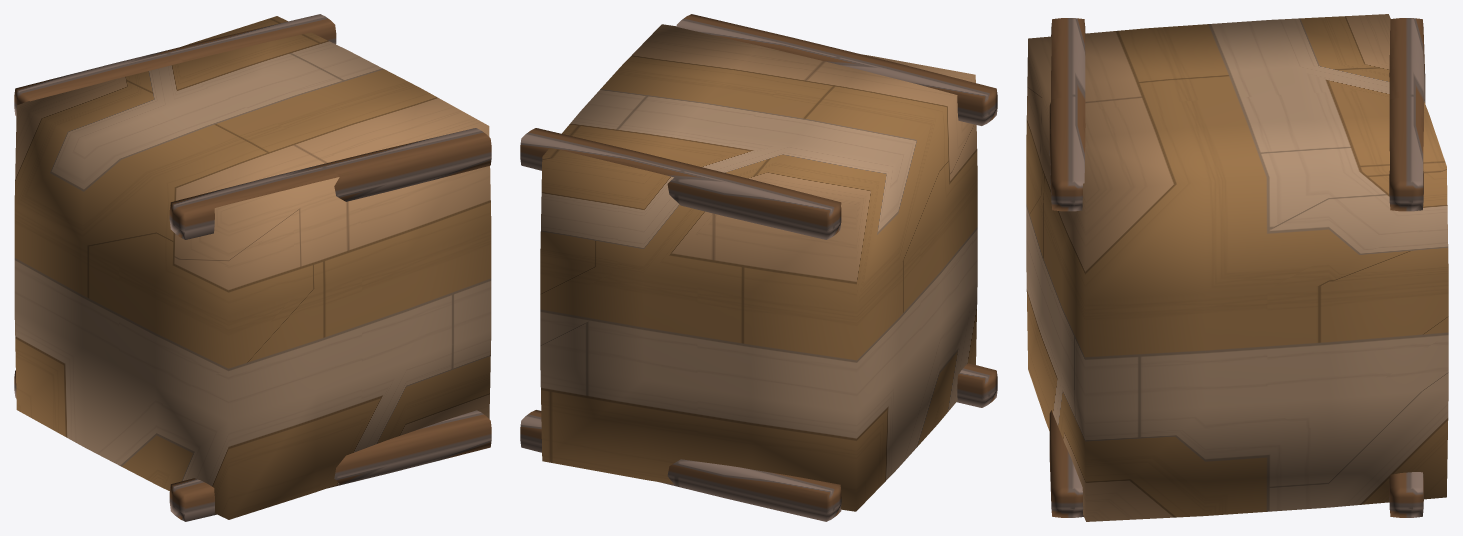
File: prop_crate_single.glb
3 views of the same model, side by side, from view 1: azimuth 30°, elevation 25°; view 2: azimuth 150°, elevation 25°; view 3: azimuth 270°, elevation 25° (orthographic). The views are drawn at different scales.
Visible parts, largest first — view 1: prop_crate_wood, prop_crate; view 2: prop_crate_wood, prop_crate; view 3: prop_crate_wood, prop_crate.
Part boxes in pixels (<box>): prop_crate_wood: <box>14,16,491,519</box>; prop_crate: <box>14,14,491,521</box>; prop_crate_wood: <box>540,24,977,511</box>; prop_crate: <box>520,14,997,521</box>; prop_crate_wood: <box>1026,14,1448,521</box>; prop_crate: <box>1049,18,1425,517</box>.
Size of the model in its own units: 0.6743 by 0.6 by 0.6743.
Materials: 2 (2 with a texture image).
